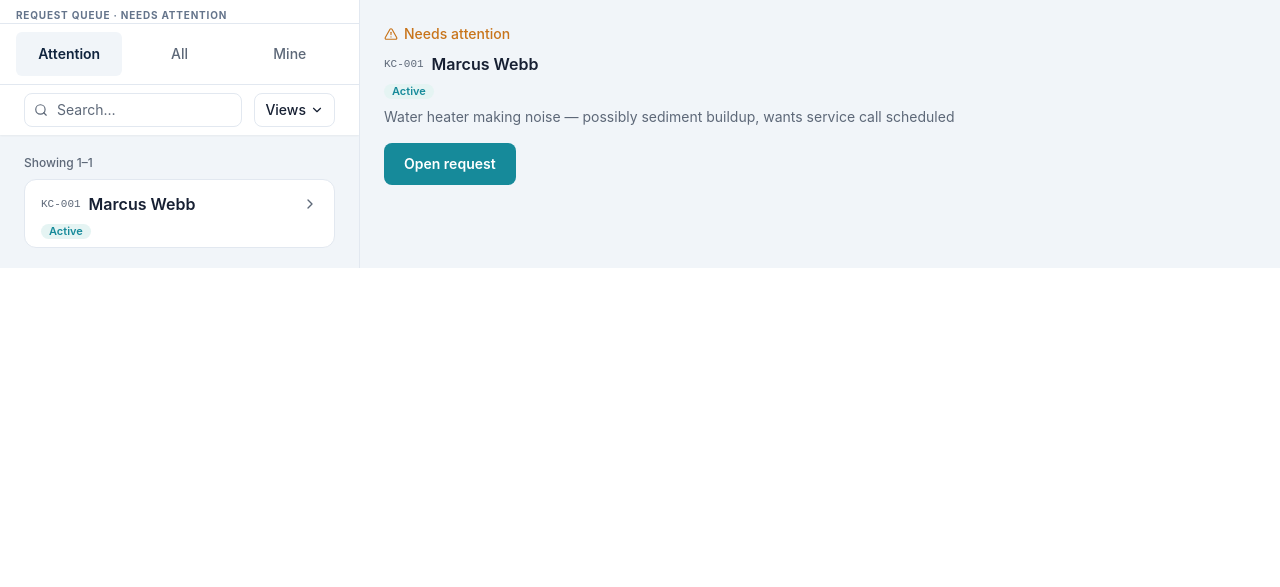
Scenario: RequestWorkbenchShell › falls back to the one-pane presentation in History mode, even when wide
This screenshot has width=1280, height=587.
Check: the button "Open request" is shown, box [384,143,516,185]
Click the button "Views" at (295, 110), box [254,93,335,127]
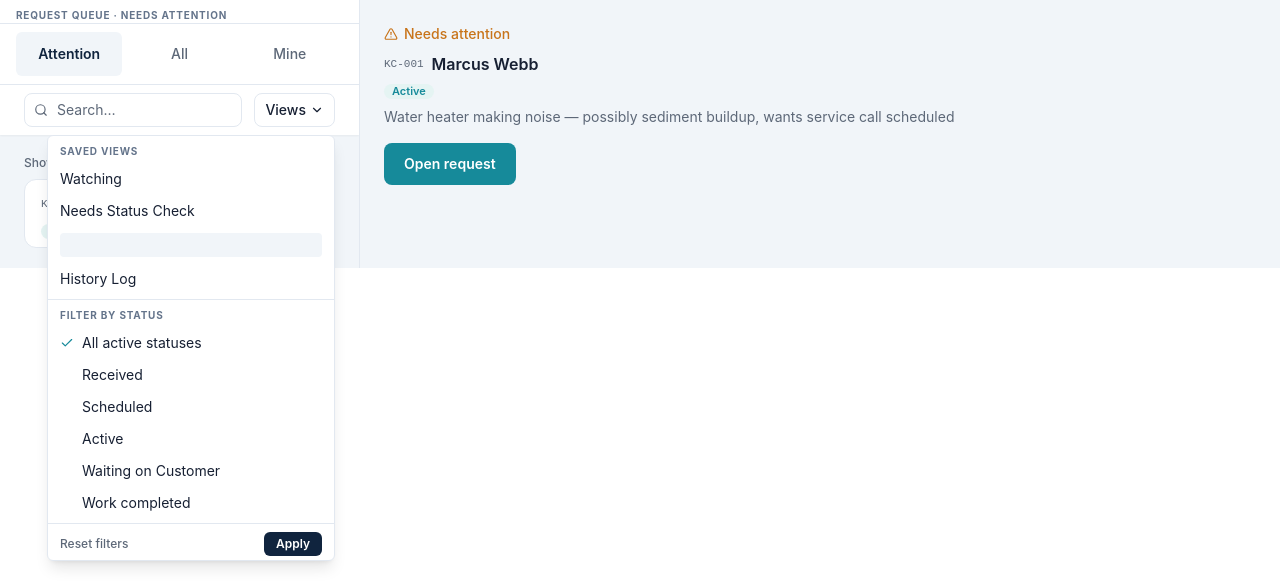
Click the button "History Log" at (98, 278), box [48,263,334,295]
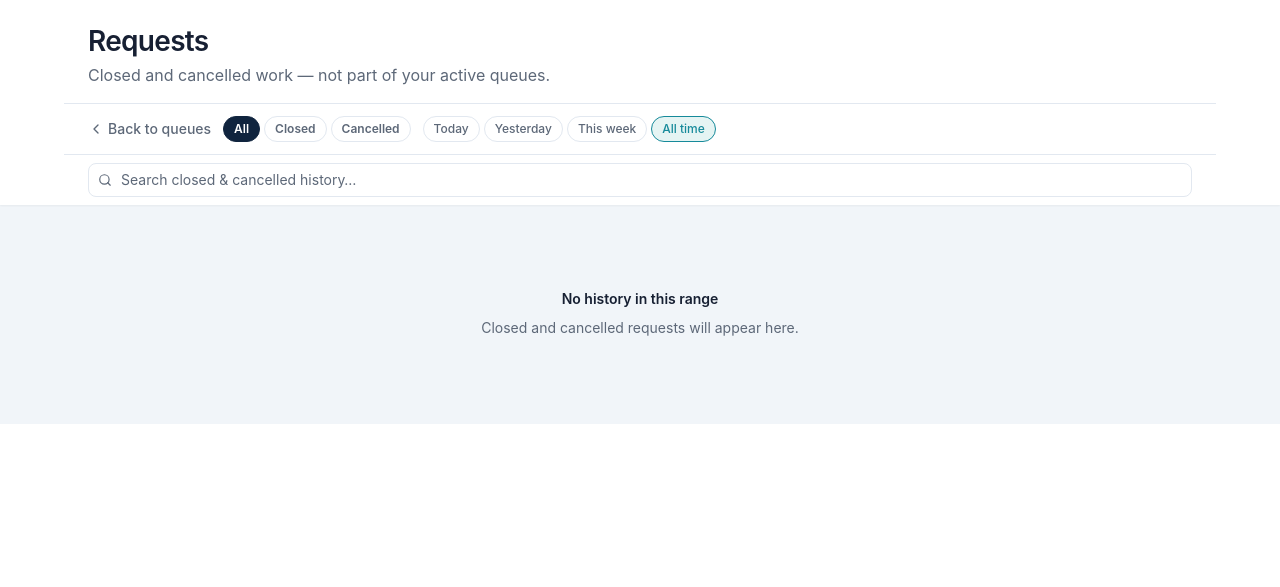
Check: the button "Back to queues" is shown, box [88,119,211,139]
Check: the button "Open request" is gone
